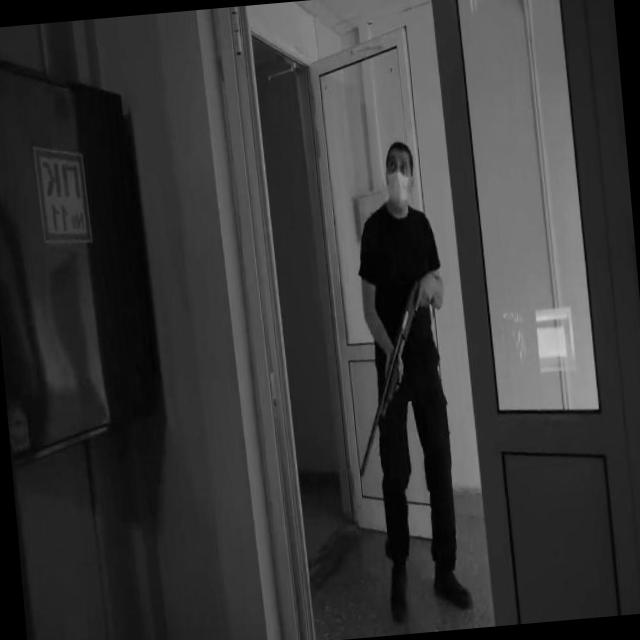gun: (341, 277, 438, 478)
person with a gun: (324, 138, 474, 627)
